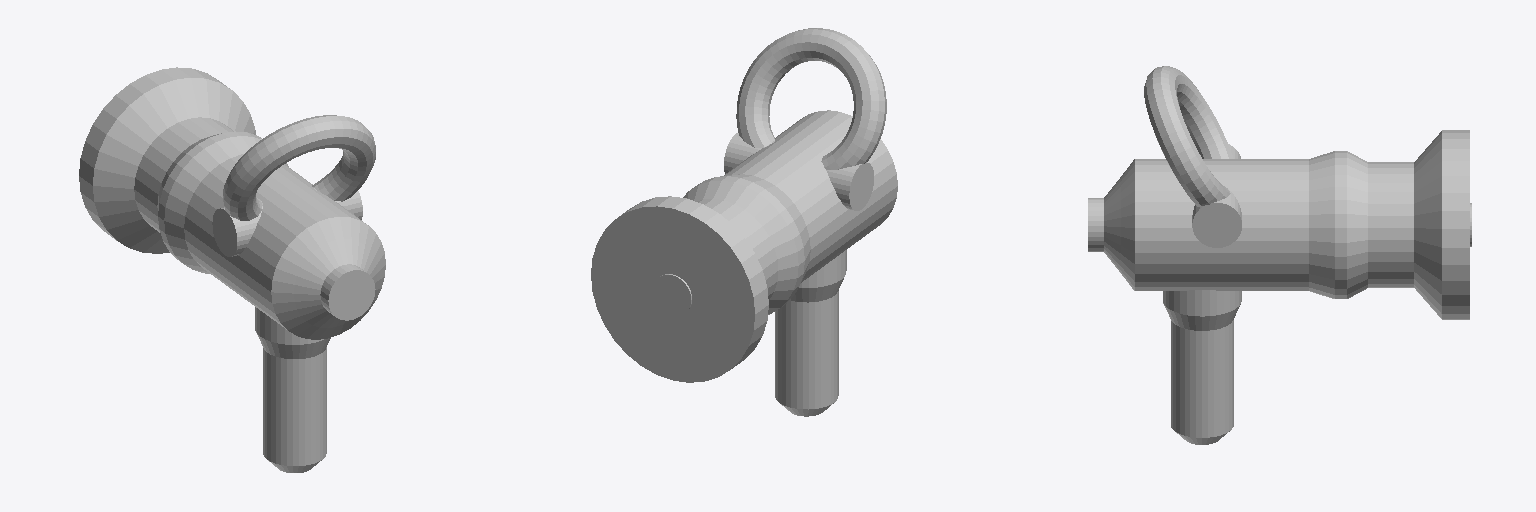
The model's file is brandslang.obj.
3 views of the same model, side by side, from view 1: azimuth 30°, elevation 25°; view 2: azimuth 150°, elevation 25°; view 3: azimuth 270°, elevation 25° (orthographic).
Visible parts, largest first — view 1: Cylinder.001, Cylinder.002, Torus, Cylinder.005; view 2: Cylinder.001, Torus, Cylinder.002, Cylinder.005, Cylinder, Cylinder.004; view 3: Cylinder.001, Cylinder.002, Torus, Cylinder.004.
Part boxes in pixels (x1,y1,x2,y2): Cylinder.001: (79,67,385,339); Cylinder.002: (255,307,330,472); Torus: (223,115,375,220); Cylinder.005: (212,201,262,256); Cylinder.001: (591,110,897,382); Torus: (736,28,886,169); Cylinder.002: (775,250,846,416); Cylinder.005: (826,162,873,210); Cylinder: (653,274,691,315); Cylinder.004: (724,133,774,173); Cylinder.001: (1088,130,1469,319); Cylinder.002: (1163,290,1241,444); Torus: (1144,66,1233,206); Cylinder.004: (1192,189,1241,247).
Bounding box in the file's own units: 2.86 × 6.04 × 5.79.